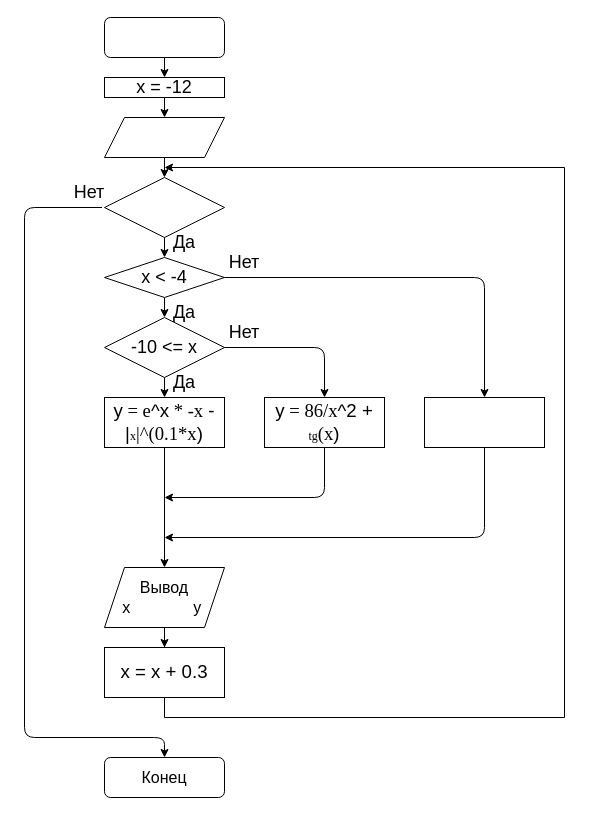
This 590x815 diagram has some shape labels left out. The shapes that lost their labels are listed below. From the top down, each one's centre as x and y in pixels, then its label:
point (164, 37): Начало
point (164, 137): Вывод "x y"
point (164, 207): x >= -12 и x <= 2
point (484, 422): y = x ^3 / cos ( x ) – lg (| x |)/ cos (2* x )
